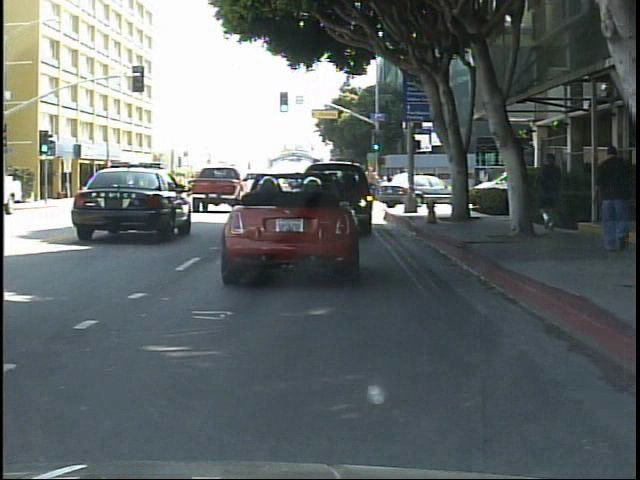person: (594, 141, 636, 260), (533, 146, 570, 236), (132, 175, 151, 202)
